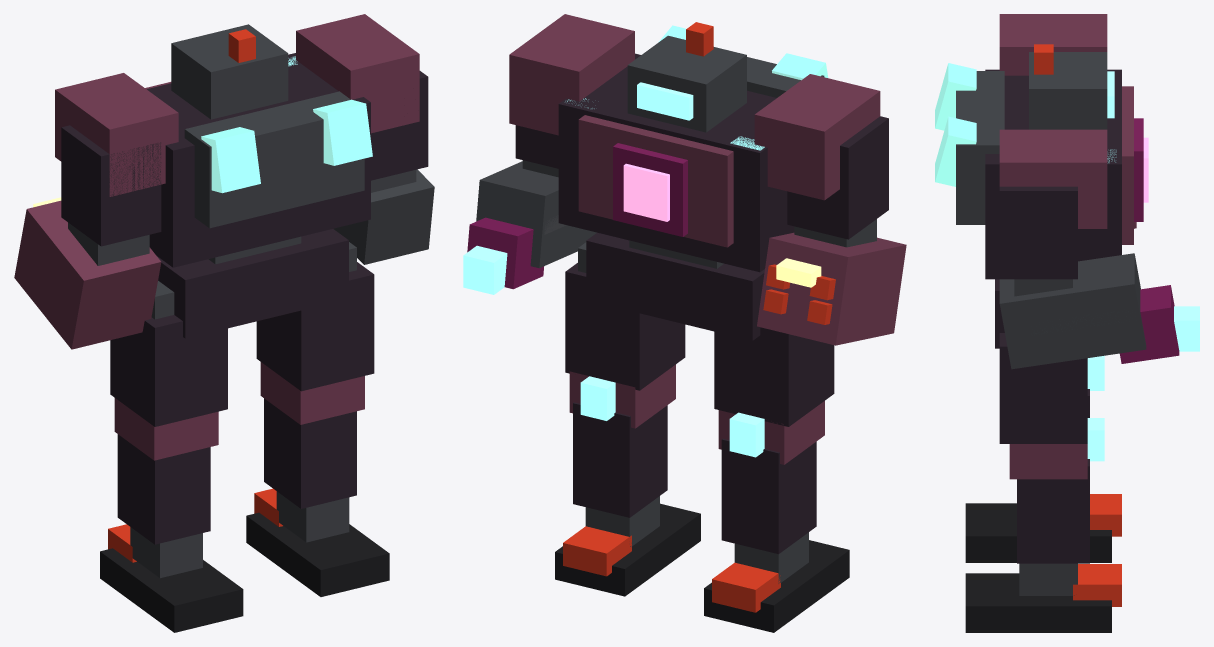
The model's file is reclaimer.glb.
3 renders of one model, left to right at view 1: azimuth 30°, elevation 25°; view 2: azimuth 150°, elevation 25°; view 3: azimuth 270°, elevation 25°, orthographic. The views are drawn at different scales.
Visible parts, largest first — view 1: P18_AlienHull, P36_AlienPlate, P24_Steel, P16_AlienHull, P12_AlienHull, P27_AlienPlate, P13_AlienHull, P28_AlienPlate, P34_AlienHull, P06_AlienHull, P31_Steel, P07_AlienHull (+17 smaller); view 2: P18_AlienHull, P16_AlienHull, P36_AlienPlate, P27_AlienPlate, P28_AlienPlate, P12_AlienHull, P19_AlienPlate, P06_AlienHull, P13_AlienHull, P07_AlienHull, P31_Steel, P34_AlienHull (+23 smaller); view 3: P44_Steel, P28_AlienPlate, P13_AlienHull, P42_AlienHull, P18_AlienHull, P01_Track, P07_AlienHull, P31_Steel, P24_Steel, P27_AlienPlate, P00_Track, P09_AlienPlate (+16 smaller).
Part boxes in pixels (bbox=[...]): P18_AlienHull: bbox=[147, 53, 370, 267]; P36_AlienPlate: bbox=[14, 200, 161, 349]; P24_Steel: bbox=[184, 91, 364, 228]; P16_AlienHull: bbox=[157, 229, 348, 338]; P12_AlienHull: bbox=[110, 315, 227, 426]; P27_AlienPlate: bbox=[55, 73, 178, 196]; P13_AlienHull: bbox=[256, 262, 374, 391]; P28_AlienPlate: bbox=[296, 14, 419, 133]; P34_AlienHull: bbox=[61, 125, 161, 246]; P06_AlienHull: bbox=[117, 434, 210, 544]; P31_Steel: bbox=[171, 24, 288, 119]; P07_AlienHull: bbox=[264, 398, 356, 508]; P18_AlienHull: bbox=[558, 53, 794, 272]; P16_AlienHull: bbox=[586, 232, 764, 340]; P36_AlienPlate: bbox=[757, 232, 906, 345]; P27_AlienPlate: bbox=[754, 74, 880, 200]; P28_AlienPlate: bbox=[509, 14, 634, 135]; P12_AlienHull: bbox=[714, 327, 834, 426]; P19_AlienPlate: bbox=[578, 115, 733, 247]; P06_AlienHull: bbox=[721, 438, 816, 554]; P13_AlienHull: bbox=[565, 263, 685, 390]; P07_AlienHull: bbox=[573, 402, 667, 517]; P31_Steel: bbox=[627, 35, 746, 132]; P34_AlienHull: bbox=[787, 116, 888, 239]; P44_Steel: bbox=[999, 253, 1146, 369]; P28_AlienPlate: bbox=[999, 129, 1107, 228]; P13_AlienHull: bbox=[999, 333, 1087, 443]; P42_AlienHull: bbox=[999, 186, 1077, 279]; P18_AlienHull: bbox=[985, 69, 1121, 279]; P01_Track: bbox=[965, 573, 1111, 632]; P07_AlienHull: bbox=[1017, 459, 1089, 563]; P31_Steel: bbox=[1029, 52, 1107, 129]; P24_Steel: bbox=[956, 71, 1004, 224]; P27_AlienPlate: bbox=[999, 14, 1107, 75]; P00_Track: bbox=[965, 503, 1111, 562]; P09_AlienPlate: bbox=[1009, 444, 1087, 479].
Size of the model in its own units: 81.5 by 120 by 54.27.
